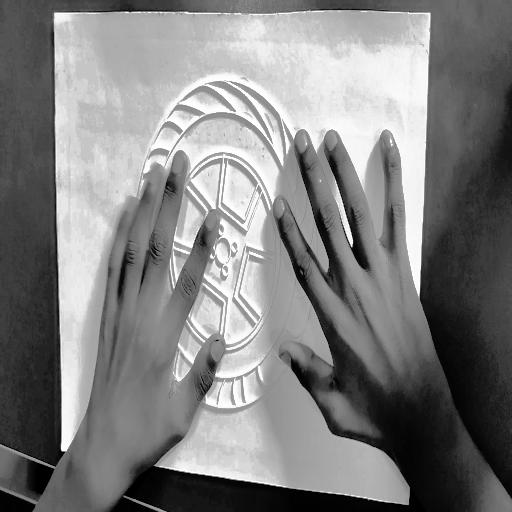bottom_left: (58, 444, 66, 457)
bottom_right: (405, 500, 413, 509)
tire: (131, 68, 326, 435)
top_left: (52, 9, 58, 22)
top_right: (427, 8, 436, 20)
